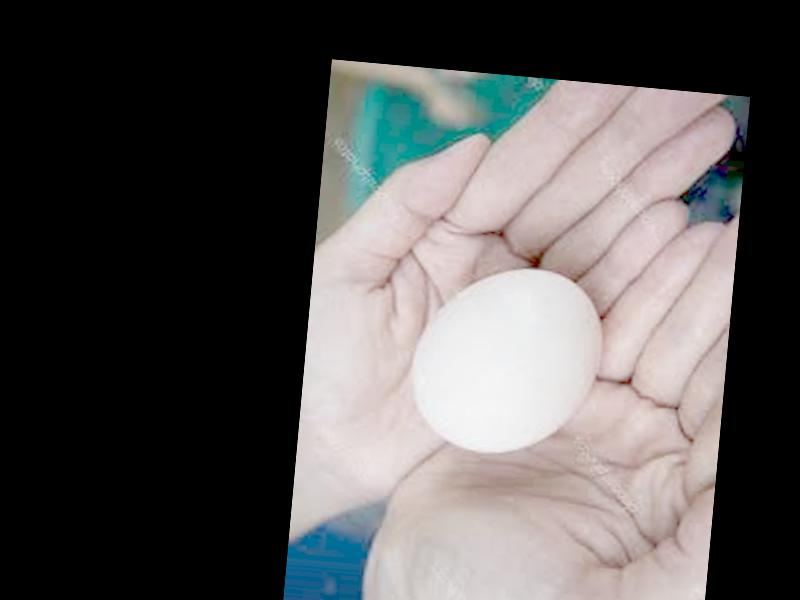Eggs: (410, 259, 603, 460)
